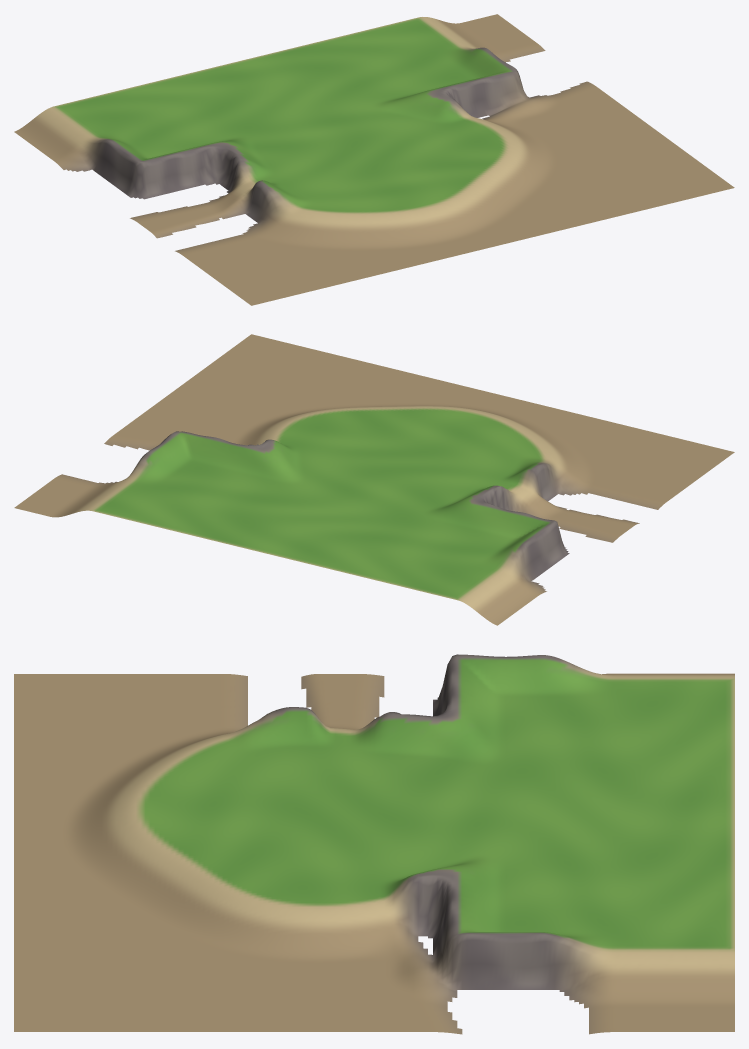
File: terrain_s1.glb
3 renders of one model, top to bottom at view 1: azimuth 30°, elevation 25°; view 2: azimuth 150°, elevation 25°; view 3: azimuth 270°, elevation 25°, orthographic. The views are drawn at different scales.
Visible parts, largest first — view 1: Terrain; view 2: Terrain; view 3: Terrain.
Part boxes in pixels (x1,y1,x2,y2): Terrain: (14, 14, 734, 305); Terrain: (14, 334, 734, 625); Terrain: (14, 654, 734, 1034).
Size of the model in its own units: 17.4 by 1.07 by 14.8.
